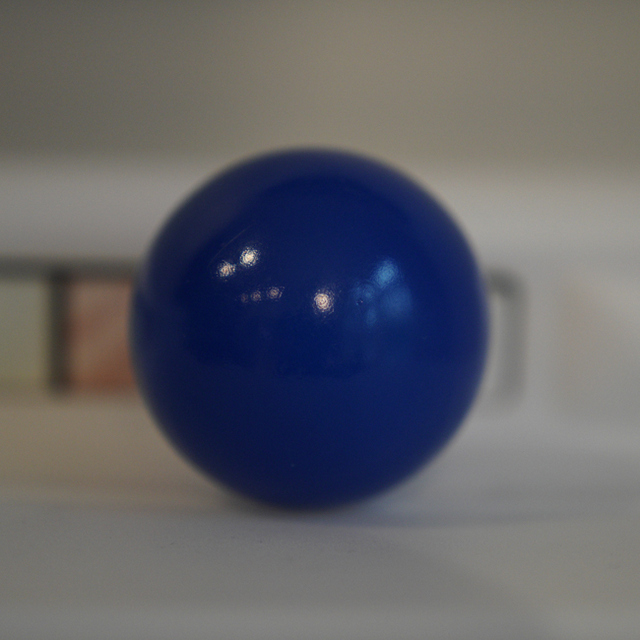Ball: (127, 146, 490, 508)
